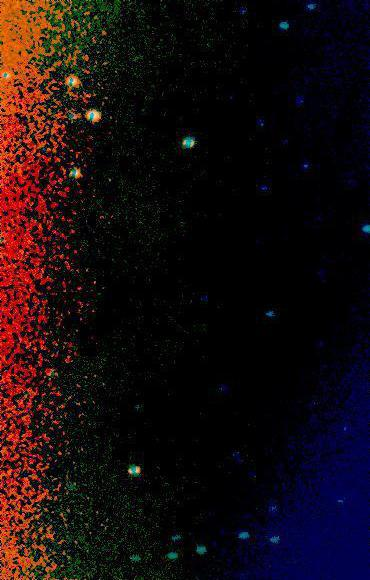star: (157, 423, 187, 453)
